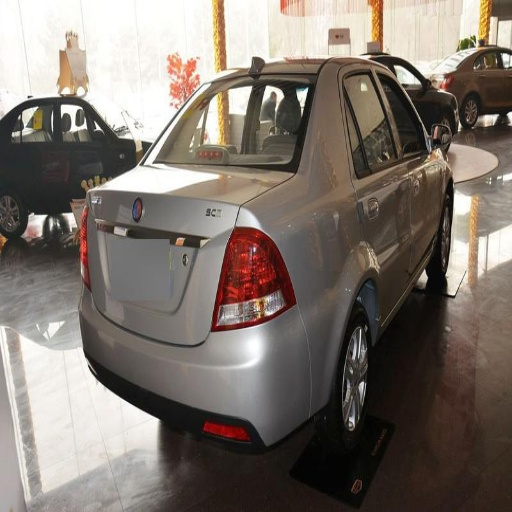back_bumper: (84, 288, 339, 483)
back_right_door: (338, 63, 410, 313)
